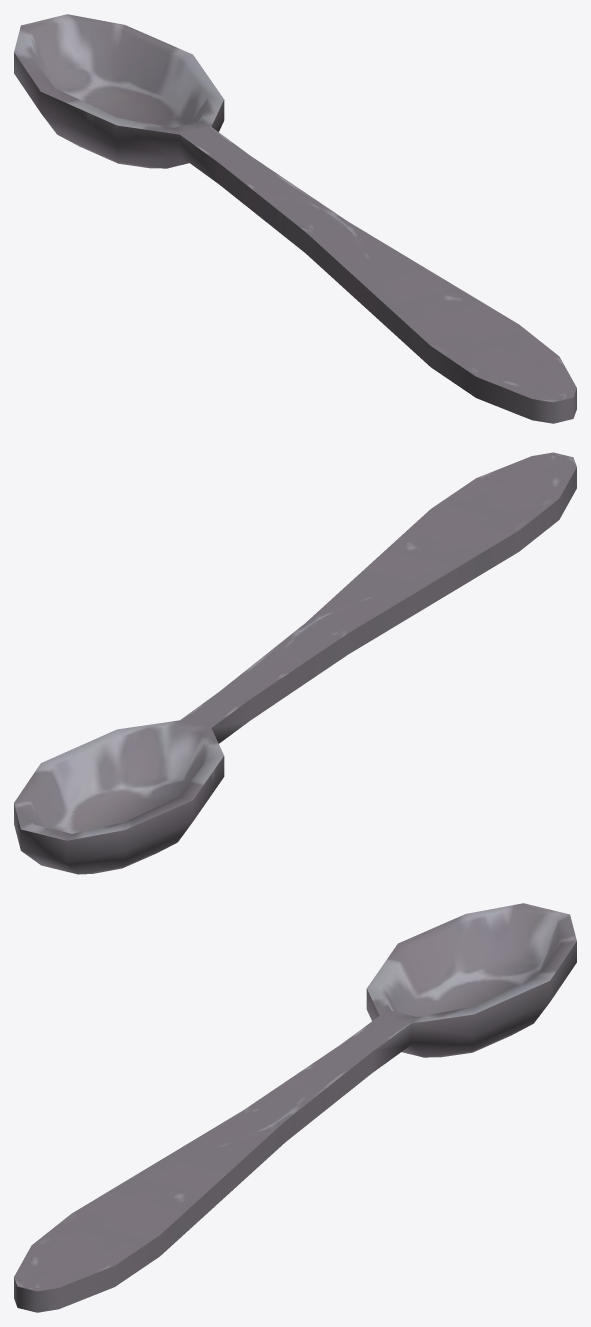
The model's file is Table_Spoon.gltf.
3 views of the same model, one above another, from view 1: azimuth 30°, elevation 25°; view 2: azimuth 150°, elevation 25°; view 3: azimuth 330°, elevation 25° (orthographic).
Visible parts, largest first — view 1: Table_Spoon; view 2: Table_Spoon; view 3: Table_Spoon.
Part boxes in pixels (<box>): Table_Spoon: <box>14,14,576,423</box>; Table_Spoon: <box>14,452,576,874</box>; Table_Spoon: <box>14,903,576,1312</box>.
Size of the model in its own units: 0.046 by 0.0182 by 0.2718.
1 material, 1 textured.
